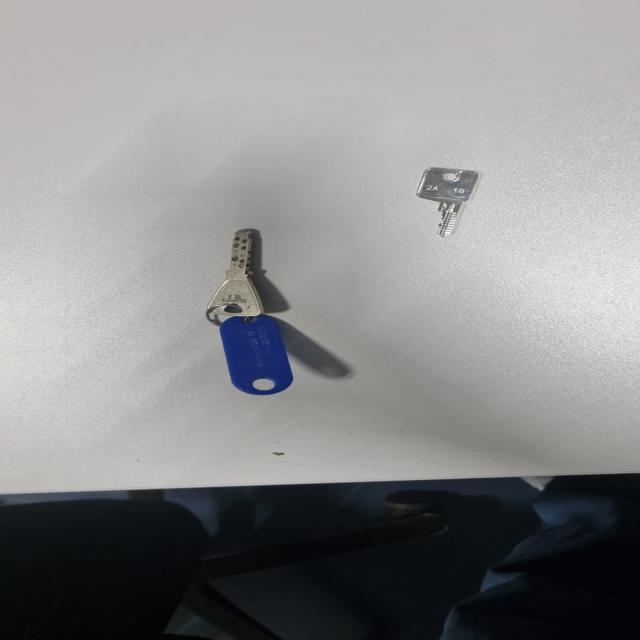Key: (206, 230, 265, 324), (416, 168, 478, 237)
